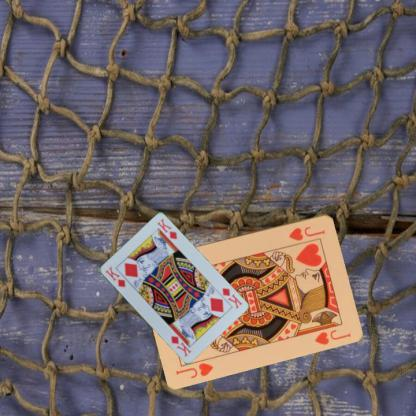Jh: (173, 360, 215, 380), (286, 223, 326, 242)
Kd: (219, 285, 243, 310), (103, 264, 126, 288)
